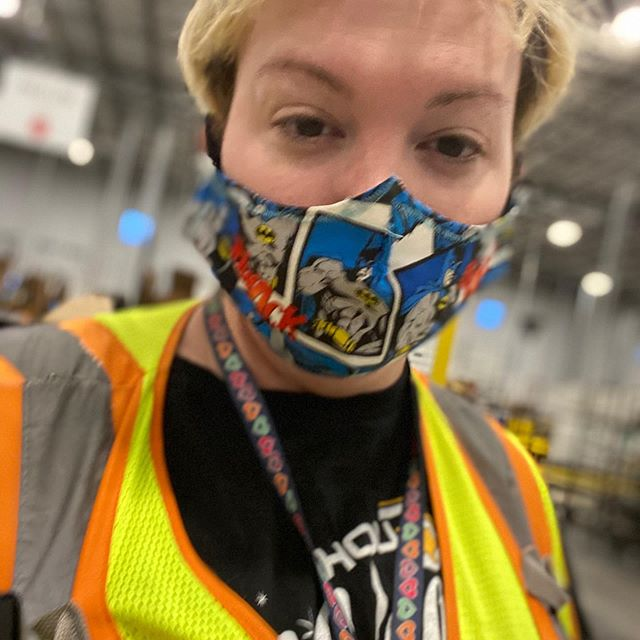homemade: (205, 166, 508, 371)
